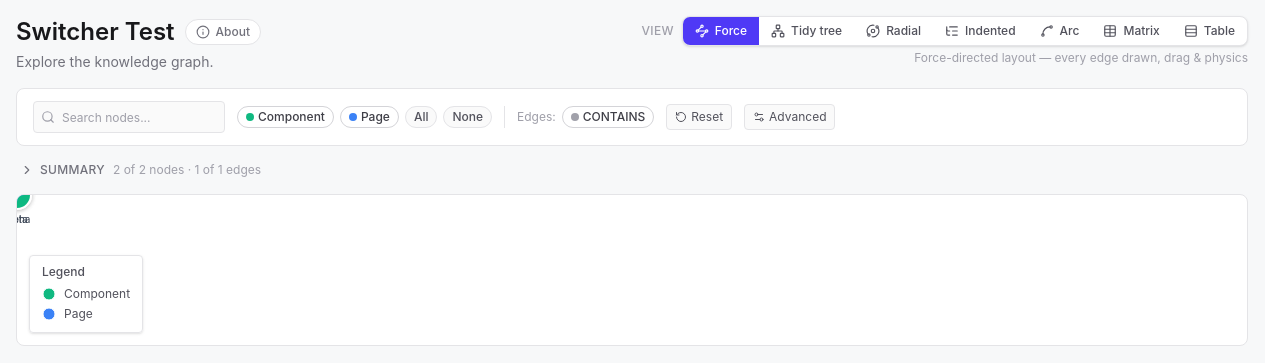
it: Viewer view switching › selecting a node in a tree view opens the detail panel
The image size is (1265, 363).
Click the button "Indented". click: (980, 31)
box: x1=933 y1=17 x2=1028 y2=45
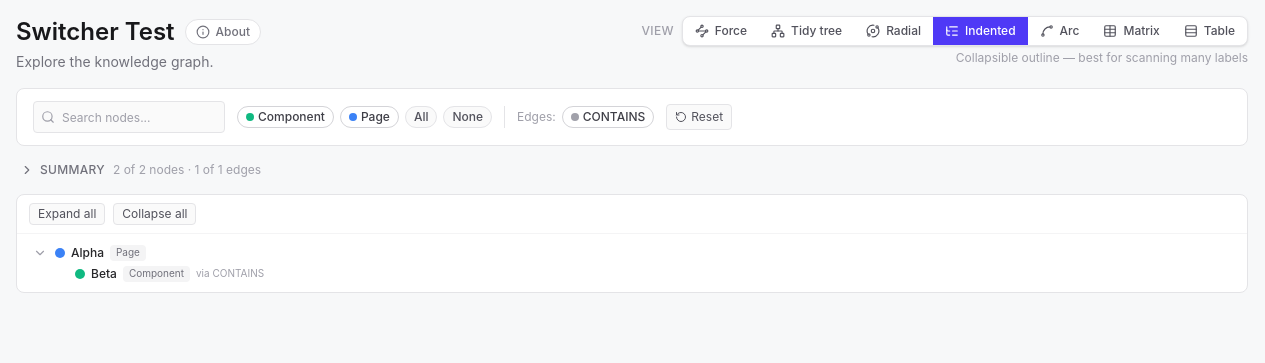
Click the button with test id "indented-row-b". click: (170, 274)
box: x1=75 y1=266 x2=264 y2=282
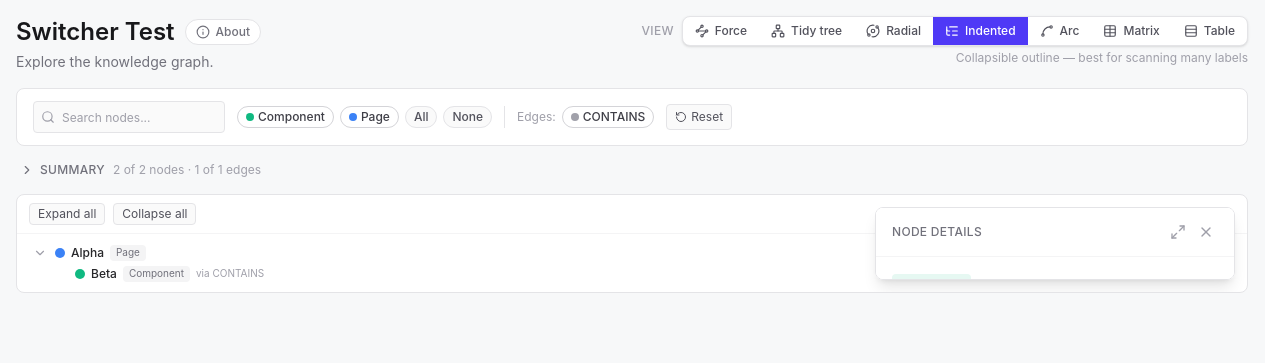
expect the element with test id "graph-detail-panel" is shown: met, box x1=875 y1=207 x2=1235 y2=280
